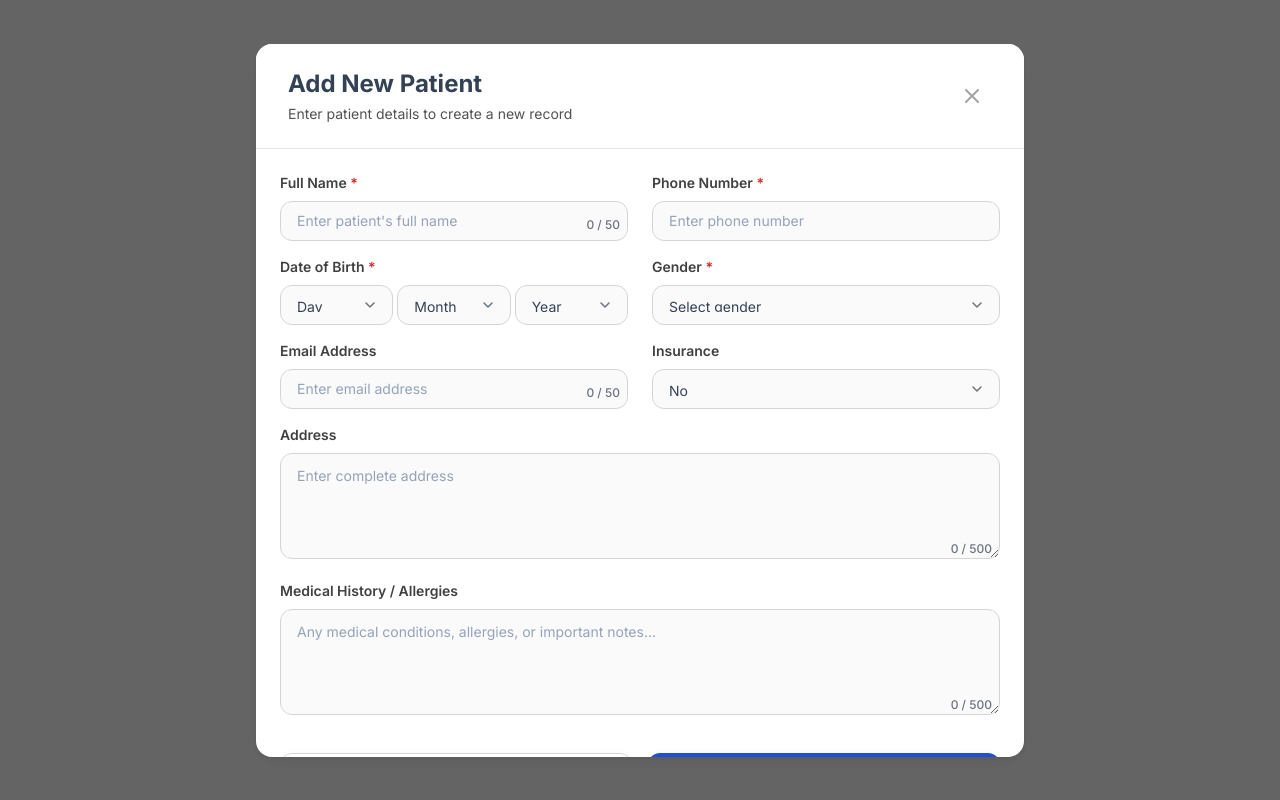
it: PatientModal — duplicate phone › shows the existing patients instead of a failure toast
This screenshot has width=1280, height=800.
Type "Aarav Patil" into the field with placeholder "Enter patient's full name" at [454, 220], box [280,200,628,240]
Type "9876500001" into the field with placeholder "Enter phone number" at [826, 220], box [652,200,1000,240]
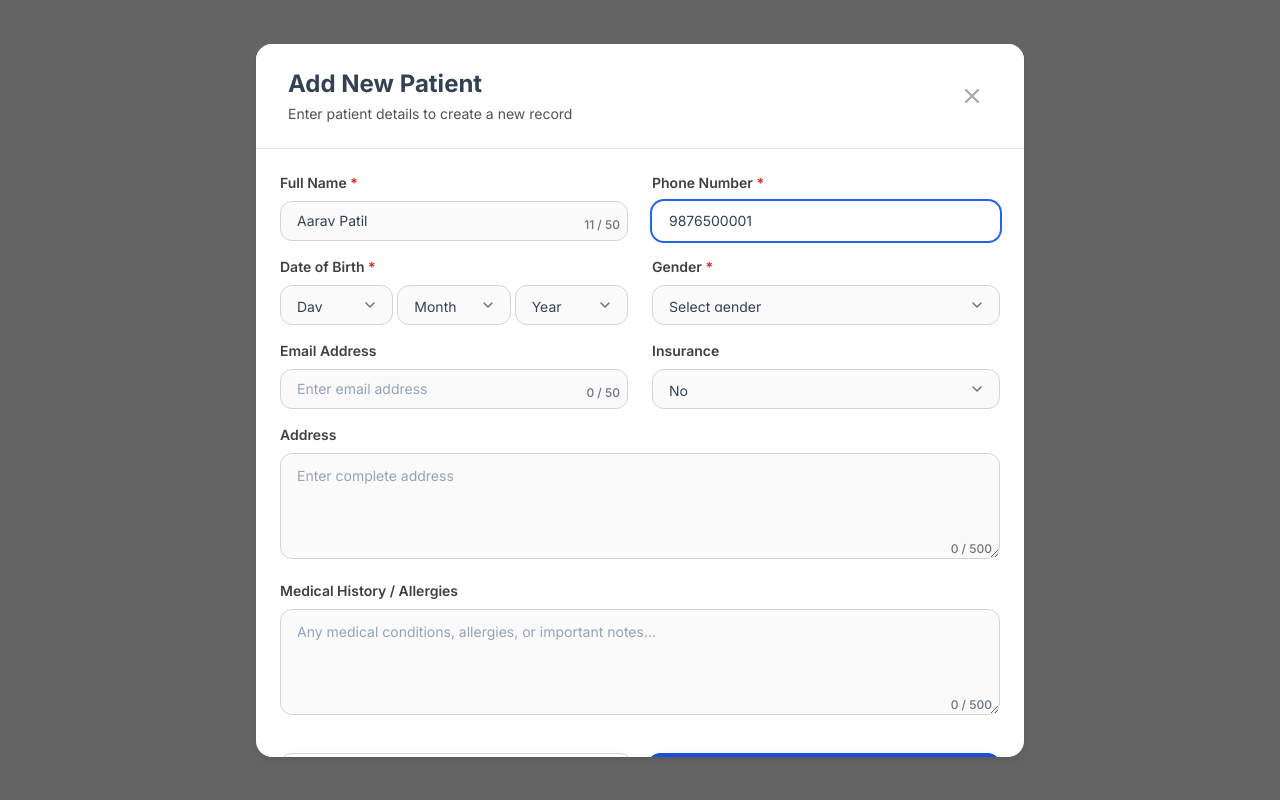
Select "21" in the dropdown named "Day" at [337, 304], box [280,284,393,324]
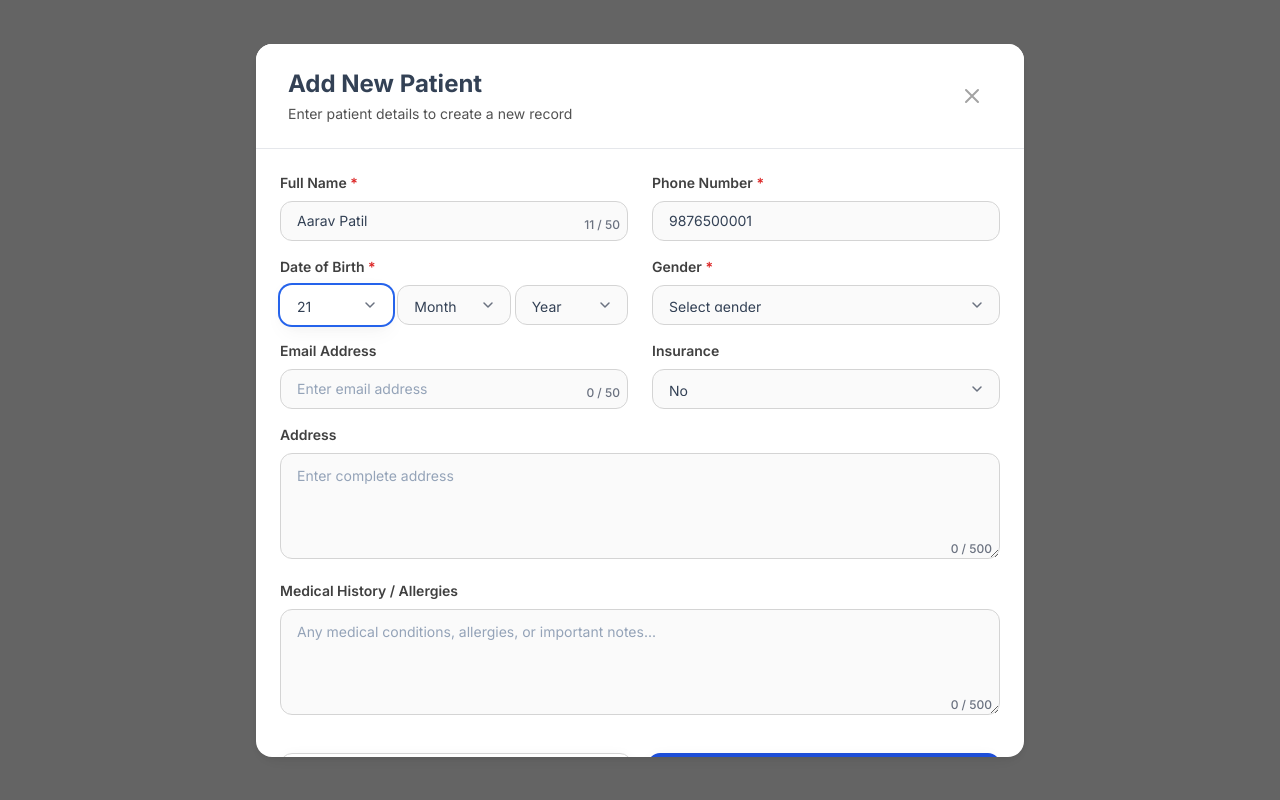
Select "Sep" in the dropdown named "Month" at [454, 304], box [397,284,511,324]
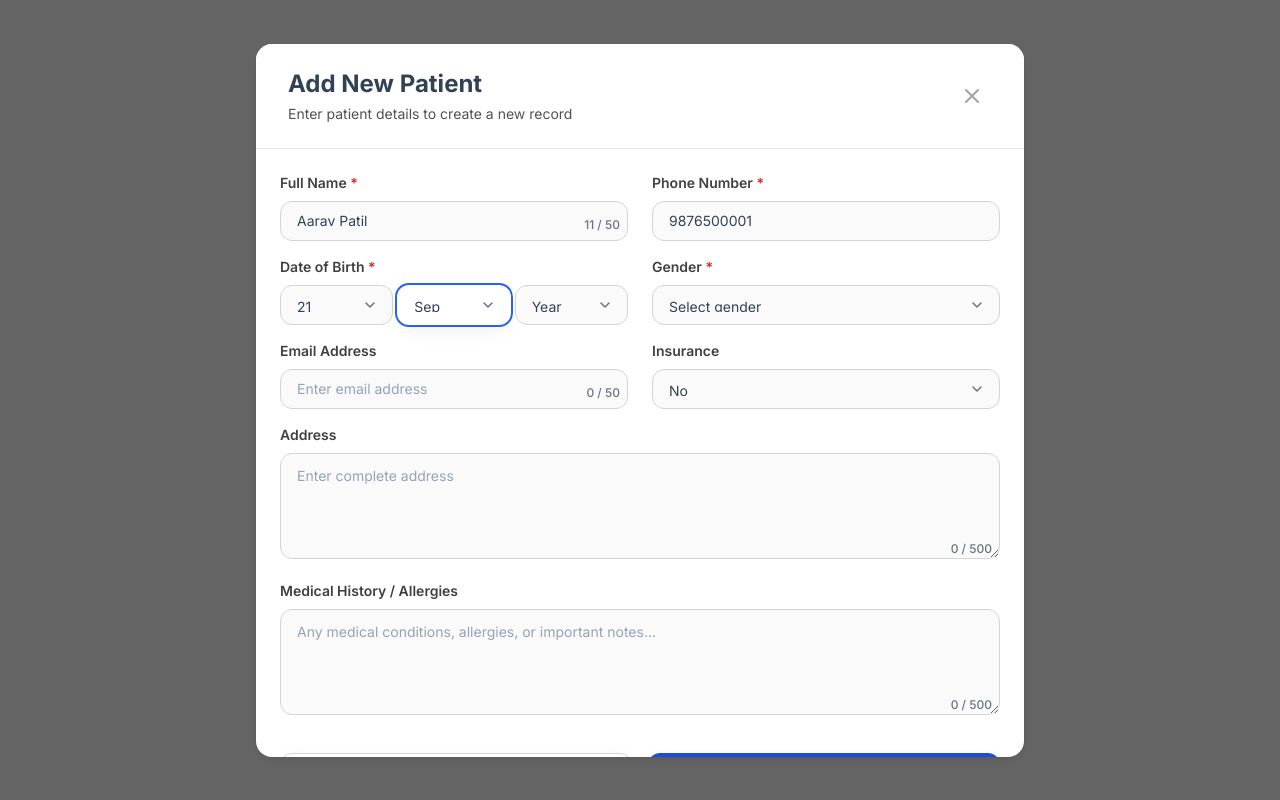
Select "2017" in the dropdown named "Year" at [571, 304], box [515,284,628,324]
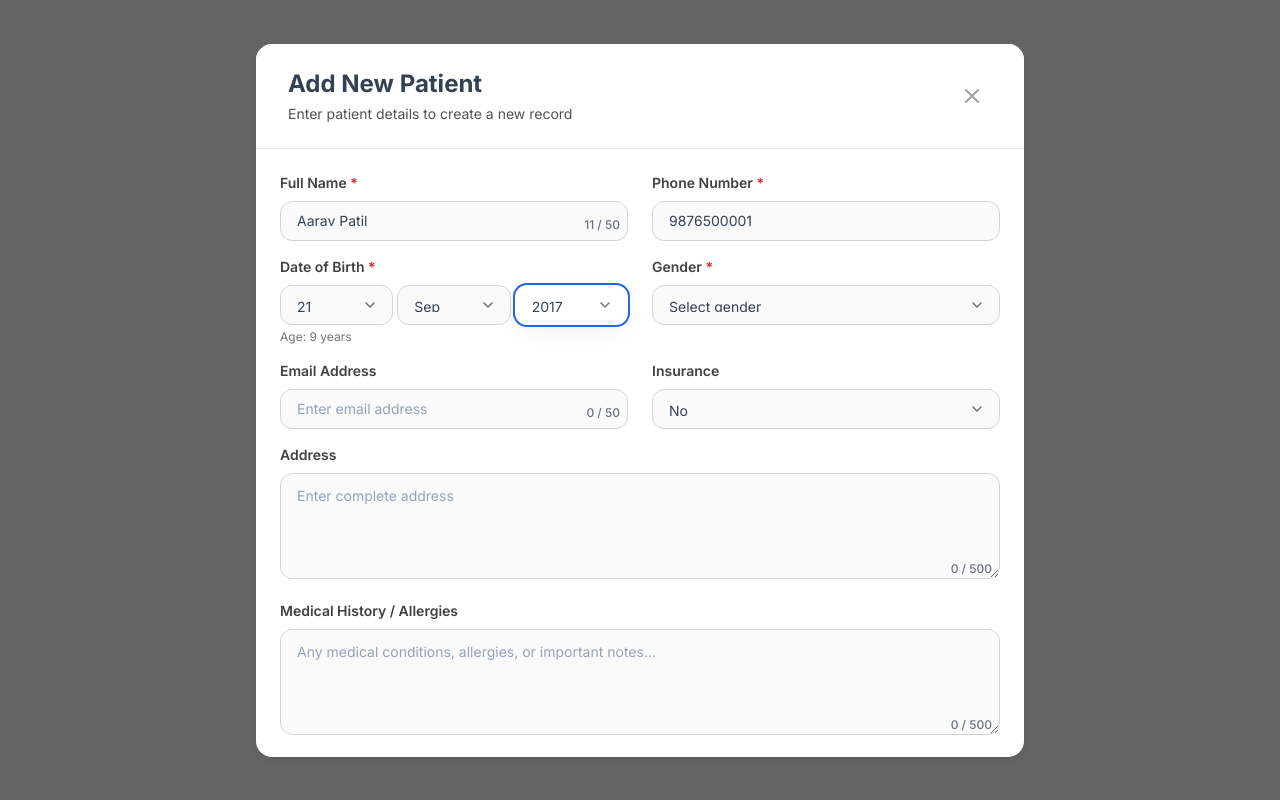
Select "Male" in the dropdown labelled "Gender *" at [826, 304], box [652,284,1000,324]
(page scrolled)
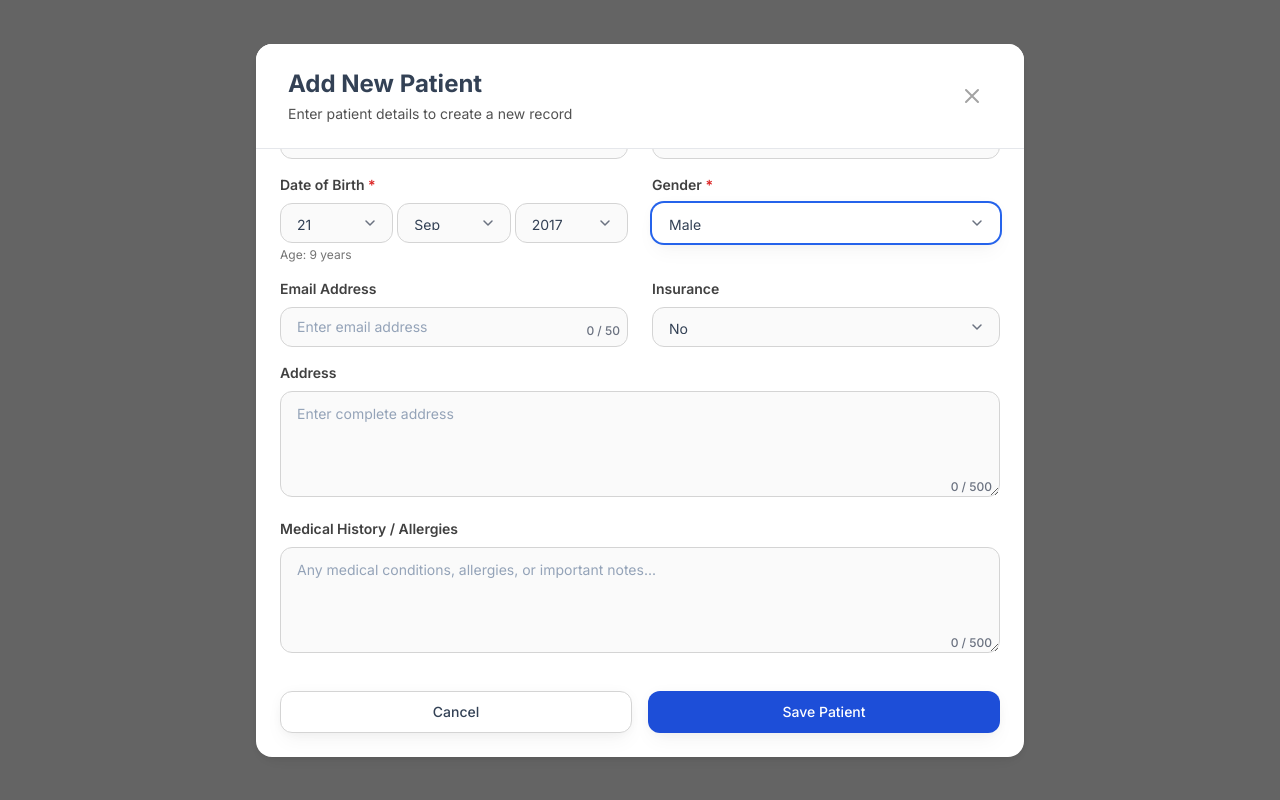
Click the button "Save Patient" at [824, 712], box [648,690,1000,732]
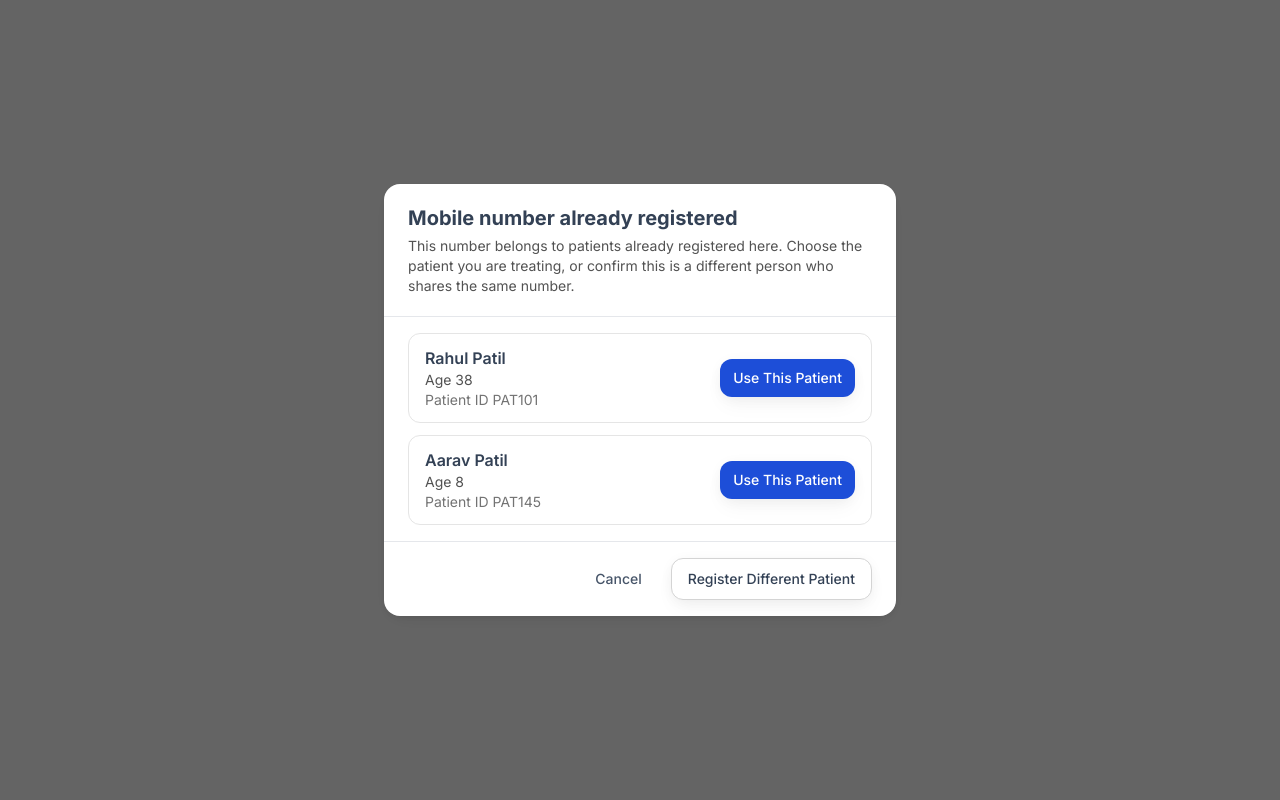
Now the heading "Mobile number already registered" is shown, box [408,206,738,230]
Now the text "Rahul Patil" is shown, box [425,348,506,368]
Now the text "Aarav Patil" is shown, box [425,450,508,470]
